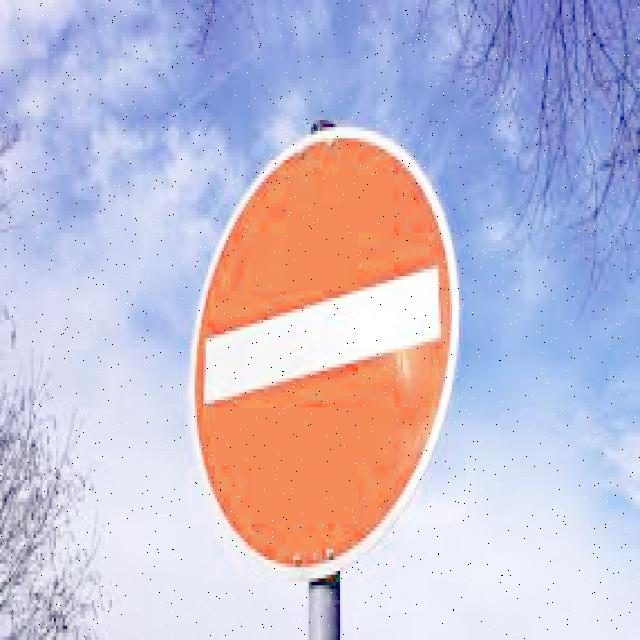no entry: (195, 135, 448, 560)
